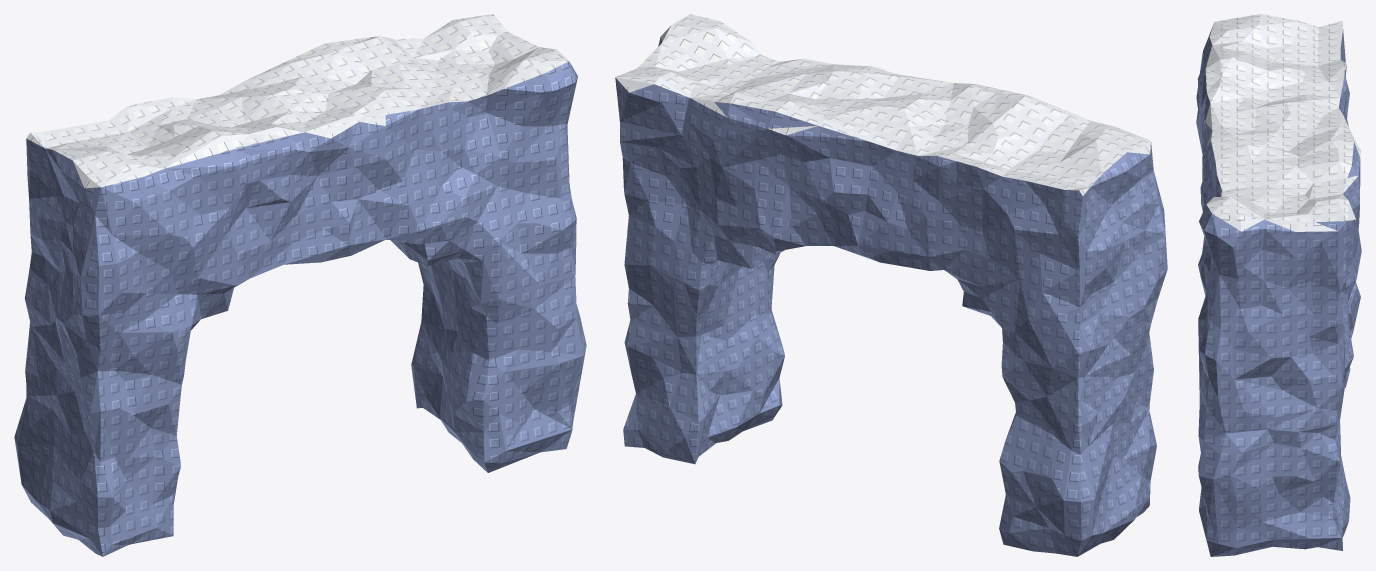
The model's file is IceArch.glb.
The picture shows the model from 3 angles, left to right: view 1: azimuth 30°, elevation 25°; view 2: azimuth 150°, elevation 25°; view 3: azimuth 270°, elevation 25°; orthographic projection. The views are drawn at different scales.
Visible parts, largest first — view 1: IceArch_Rock, IceArch_Top; view 2: IceArch_Rock, IceArch_Top; view 3: IceArch_Rock, IceArch_Top.
Part boxes in pixels (x1,y1,x2,y2): IceArch_Rock: [14, 61, 586, 556]; IceArch_Top: [26, 14, 568, 188]; IceArch_Rock: [615, 37, 1167, 556]; IceArch_Top: [615, 14, 1150, 195]; IceArch_Rock: [1196, 24, 1361, 556]; IceArch_Top: [1205, 14, 1361, 231].
Size of the model in its own units: 33.79 by 25.51 by 10.79.
2 materials, 2 textured.
